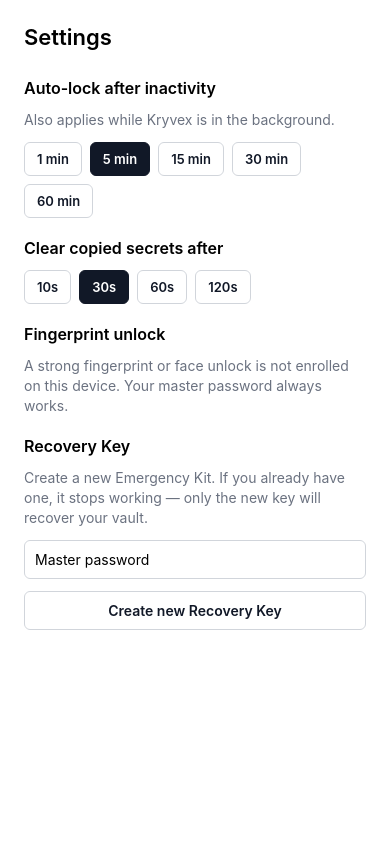
Test: SettingsScreen › shows the new Emergency Kit after creating a Recovery Key
In the password field named "Master password for Recovery Key": (195, 560) x1=24 y1=540 x2=366 y2=579, type "pw"
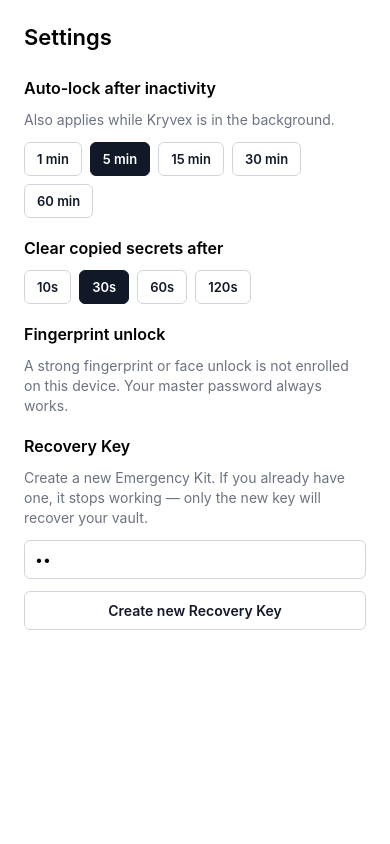
Click the text "Create new Recovery Key": click(195, 610) x1=108 y1=602 x2=282 y2=619
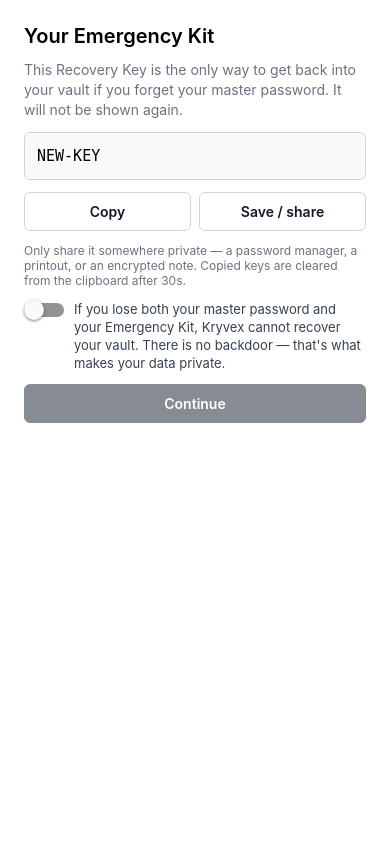
Check: the text with test id "recovery-key" reads "NEW-KEY", box x1=37 y1=147 x2=100 y2=165
